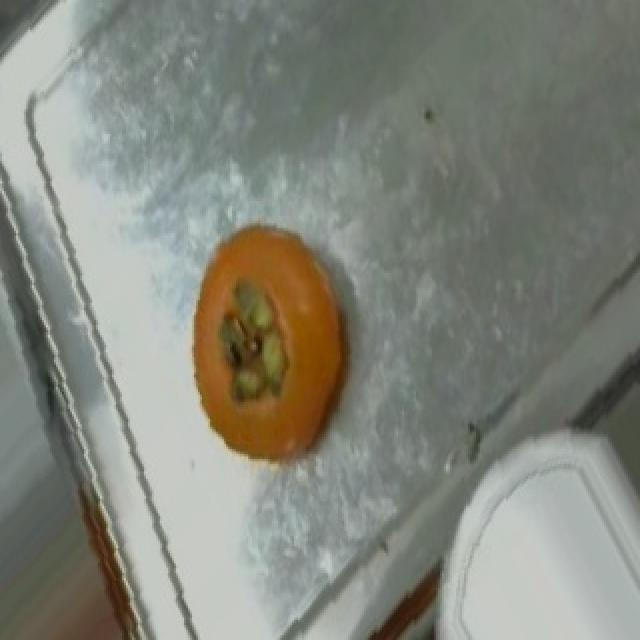Fruit: (166, 208, 372, 492), (432, 452, 640, 638)
